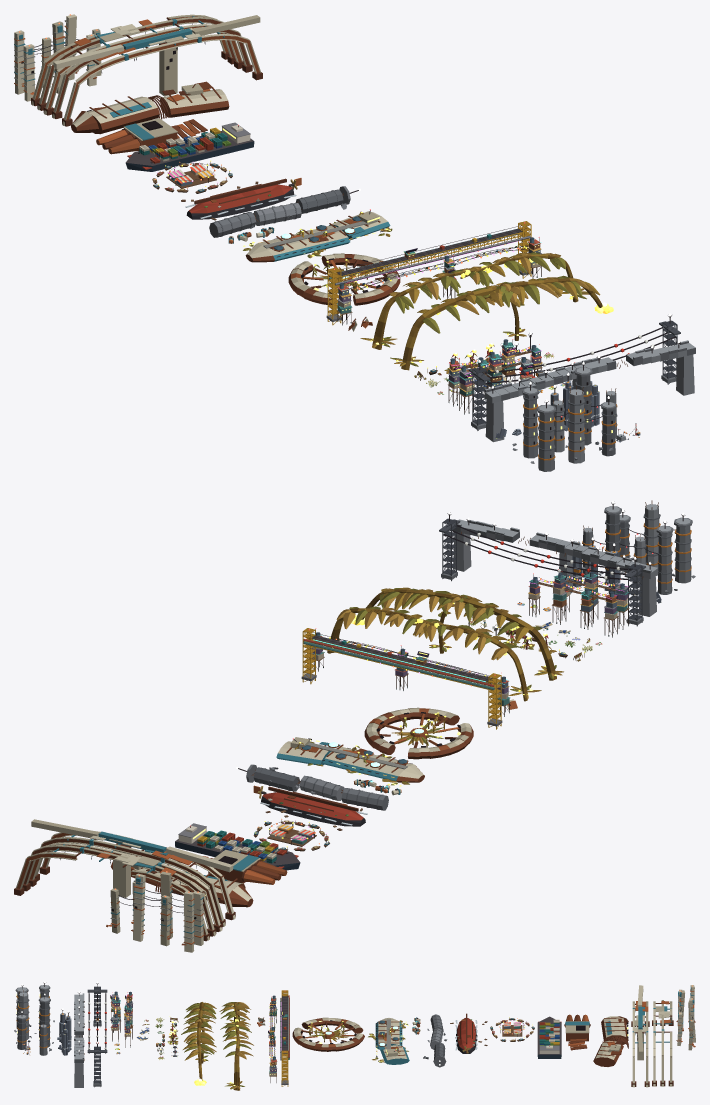
Rendered from set_halcyon.glb.
3 views of the same model, one above another, from view 1: azimuth 30°, elevation 25°; view 2: azimuth 150°, elevation 25°; view 3: azimuth 270°, elevation 25° (orthographic). The views are drawn at different scales.
Parts seen in each view (by area): view 1: halcyon_ark_ribs_1.001, halcyon_kelp_arch_1.001, halcyon_storm_pylons_1.001, halcyon_ark_wreck_0.001, halcyon_ark_ribs_0.001, halcyon_gantry_0.001, halcyon_kelp_arch_0.001, halcyon_drowned_ark_0.001, halcyon_storm_towers_1.001, halcyon_barge_0.001, halcyon_drowned_ark_1.001, halcyon_storm_towers_0.001 (+10 smaller); view 2: halcyon_ark_ribs_1.001, halcyon_storm_pylons_1.001, halcyon_gantry_0.001, halcyon_kelp_arch_1.001, halcyon_ark_ribs_0.001, halcyon_drowned_ark_1.001, halcyon_drowned_ark_0.001, halcyon_kelp_arch_0.001, halcyon_storm_pylons_0.001, halcyon_barge_0.001, halcyon_storm_towers_0.001, halcyon_storm_towers_1.001 (+10 smaller); view 3: halcyon_drowned_ark_1.001, halcyon_kelp_arch_1.001, halcyon_kelp_arch_0.001, halcyon_drowned_ark_0.001, halcyon_ark_wreck_0.001, halcyon_ark_ribs_1.001, halcyon_ark_ribs_0.001, halcyon_barge_0.001, halcyon_storm_pylons_1.001, halcyon_storm_pylons_0.001, halcyon_gantry_0.001, halcyon_storm_towers_0.001 (+11 smaller).
Part boxes in pixels (box(x1,y1,x2,y2)): halcyon_ark_ribs_1.001: box(52, 15, 262, 126); halcyon_kelp_arch_1.001: box(390, 275, 613, 370); halcyon_storm_pylons_1.001: box(484, 340, 695, 442); halcyon_ark_wreck_0.001: box(71, 81, 229, 134); halcyon_ark_ribs_0.001: box(31, 14, 243, 115); halcyon_gantry_0.001: box(326, 221, 531, 325); halcyon_kelp_arch_0.001: box(360, 252, 588, 349); halcyon_drowned_ark_0.001: box(243, 209, 392, 262); halcyon_storm_towers_1.001: box(530, 386, 616, 471); halcyon_barge_0.001: box(125, 122, 254, 171); halcyon_drowned_ark_1.001: box(288, 253, 400, 305); halcyon_storm_towers_0.001: box(512, 361, 617, 458); halcyon_ark_ribs_1.001: box(31, 819, 235, 926); halcyon_storm_pylons_1.001: box(453, 517, 658, 616); halcyon_gantry_0.001: box(301, 628, 502, 729); halcyon_kelp_arch_1.001: box(351, 587, 563, 680); halcyon_ark_ribs_0.001: box(14, 843, 222, 941); halcyon_drowned_ark_1.001: box(364, 707, 473, 759); halcyon_drowned_ark_0.001: box(276, 737, 424, 786); halcyon_kelp_arch_0.001: box(327, 606, 541, 701); halcyon_storm_pylons_0.001: box(439, 511, 645, 626); halcyon_barge_0.001: box(175, 823, 300, 870); halcyon_storm_towers_0.001: box(582, 501, 677, 594); halcyon_storm_towers_1.001: box(619, 500, 695, 583); halcyon_drowned_ark_1.001: box(292, 1017, 364, 1051); halcyon_kelp_arch_1.001: box(181, 1002, 216, 1085); halcyon_kelp_arch_0.001: box(219, 1002, 253, 1090); halcyon_drowned_ark_0.001: box(368, 1018, 409, 1064); halcyon_ark_wreck_0.001: box(593, 1016, 628, 1066); halcyon_ark_ribs_1.001: box(631, 985, 649, 1087); halcyon_ark_ribs_0.001: box(652, 1000, 673, 1086); halcyon_barge_0.001: box(537, 1016, 561, 1058); halcyon_storm_pylons_1.001: box(74, 991, 84, 1087); halcyon_storm_pylons_0.001: box(87, 981, 107, 1087); halcyon_gantry_0.001: box(280, 990, 289, 1086); halcyon_storm_towers_0.001: box(34, 981, 54, 1055).
Size of the model in its own units: 100 by 35.29 by 412.
